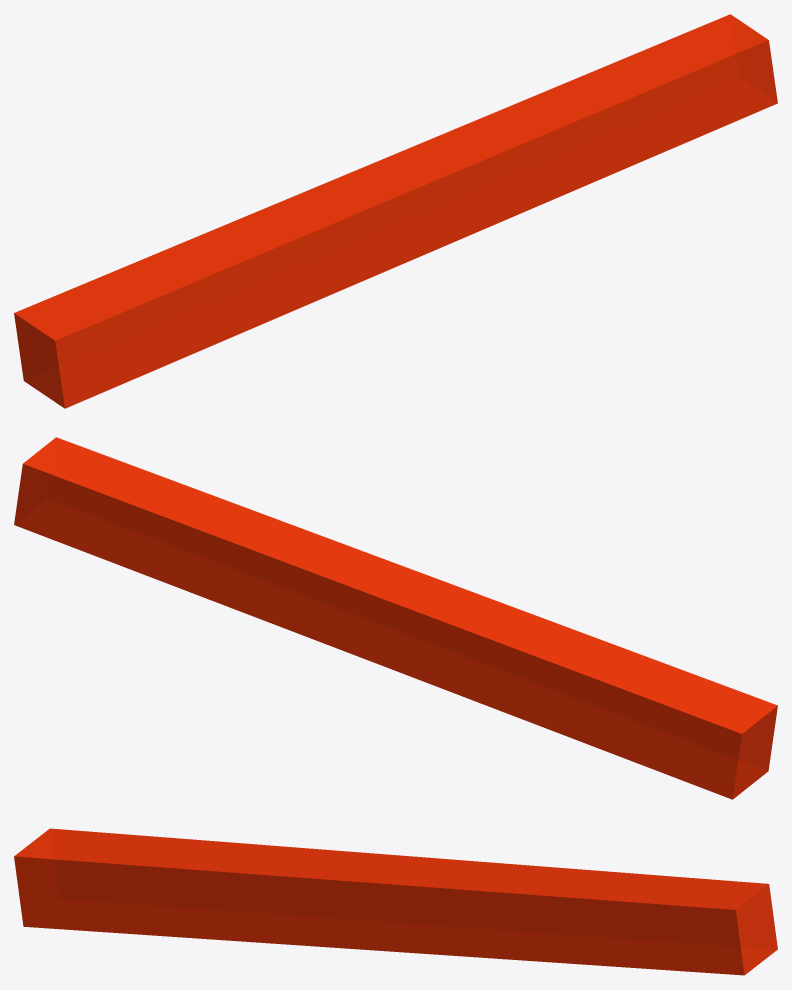
The model's file is Event_421127236_EErechit_29.fbx.
3 renders of one model, top to bottom at view 1: azimuth 30°, elevation 25°; view 2: azimuth 150°, elevation 25°; view 3: azimuth 330°, elevation 25°, orthographic. The views are drawn at different scales.
Visible parts, largest first — view 1: Model; view 2: Model; view 3: Model.
Boxes of the visible parts, box(x1,y1,x2,y2) form: Model: box(14, 14, 777, 408); Model: box(14, 437, 777, 799); Model: box(14, 828, 777, 975).
Size of the model in its own units: 0.8501 by 0.1991 by 0.1045.
